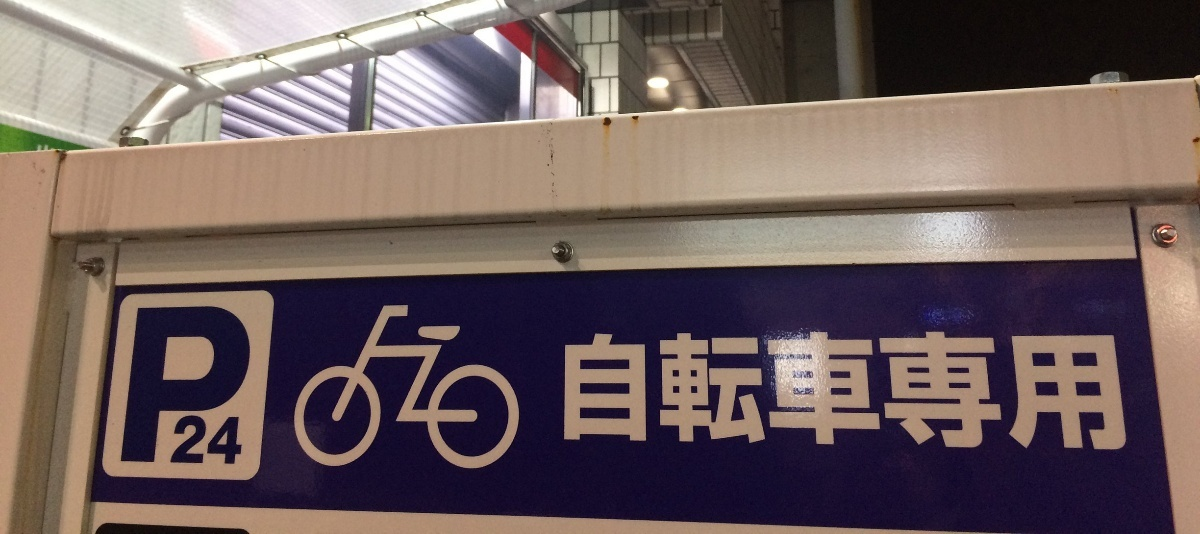text: (145, 306, 160, 468), (161, 306, 176, 468), (177, 306, 192, 468), (193, 306, 208, 468), (209, 306, 224, 468), (225, 306, 240, 468), (241, 306, 253, 468), (577, 330, 592, 453), (593, 330, 608, 453), (609, 330, 624, 453), (625, 330, 640, 453), (641, 330, 656, 453), (657, 330, 672, 453), (673, 330, 688, 453), (689, 330, 704, 453), (705, 330, 720, 453), (721, 330, 736, 453), (737, 330, 752, 453), (753, 330, 768, 453), (769, 330, 784, 453), (785, 330, 800, 453), (801, 330, 816, 453), (817, 330, 832, 453), (833, 330, 848, 453), (849, 330, 864, 453), (865, 330, 880, 453), (881, 330, 896, 453), (897, 330, 912, 453), (913, 330, 928, 453), (929, 330, 944, 453), (945, 330, 960, 453), (961, 330, 976, 453), (977, 330, 992, 453), (993, 330, 1008, 453), (1009, 330, 1024, 453), (1025, 330, 1040, 453), (1041, 330, 1056, 453), (1057, 330, 1072, 453), (1073, 330, 1088, 453), (1089, 330, 1104, 453), (1105, 330, 1120, 453), (565, 330, 576, 453), (1121, 330, 1129, 453), (138, 306, 144, 468), (177, 414, 192, 468), (193, 414, 208, 468), (209, 414, 224, 468), (225, 414, 240, 468), (241, 414, 247, 468)
